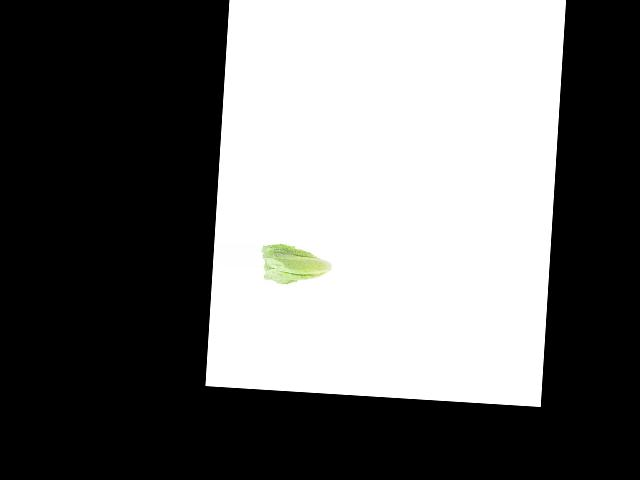lettuce: (259, 239, 334, 289)
